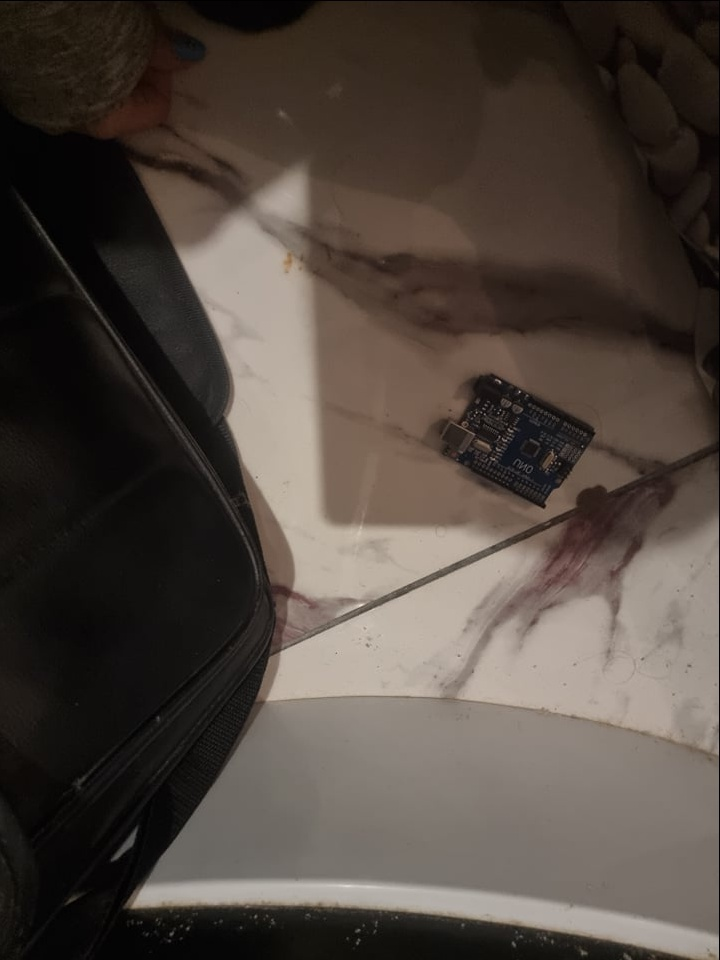UNO R3: (435, 369, 599, 511)
